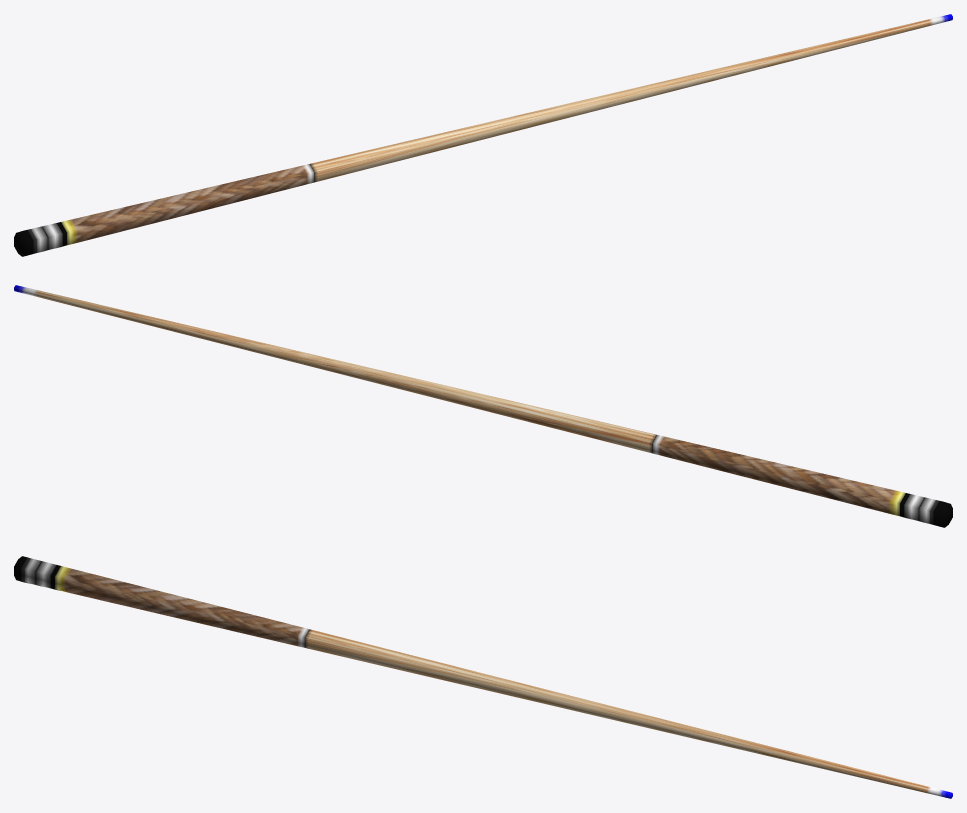
File: pool-stick-diff.glb
3 views of the same model, one above another, from view 1: azimuth 30°, elevation 25°; view 2: azimuth 150°, elevation 25°; view 3: azimuth 330°, elevation 25° (orthographic).
Parts seen in each view (by area): view 1: Cone001; view 2: Cone001; view 3: Cone001.
Boxes of the visible parts, <box> form: Cone001: <box>14,14,952,256</box>; Cone001: <box>14,285,952,527</box>; Cone001: <box>14,556,952,798</box>.
Bounding box in the file's own units: 59.37 × 1.57 × 1.36.
1 material, 1 textured.
